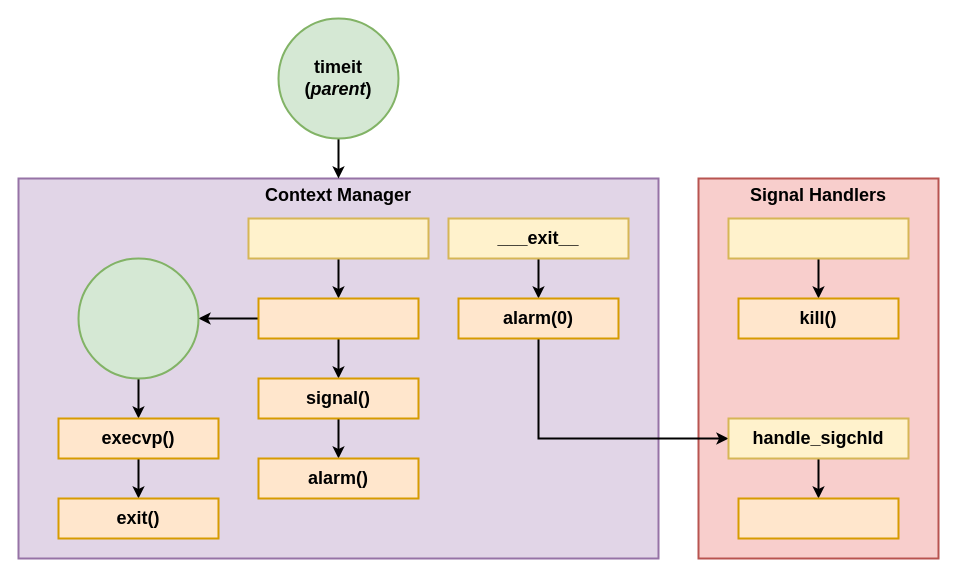
Image size: 956x576. Some labels were removed from this diagram. The centre of each missing label's shape, as x and y in pixels:
"__enter__" goes at [338,238].
"fork()" goes at [338,318].
"handle_sigalrm" goes at [818,238].
"timeit ( child )" goes at [138,318].
"wait()" goes at [818,518].
